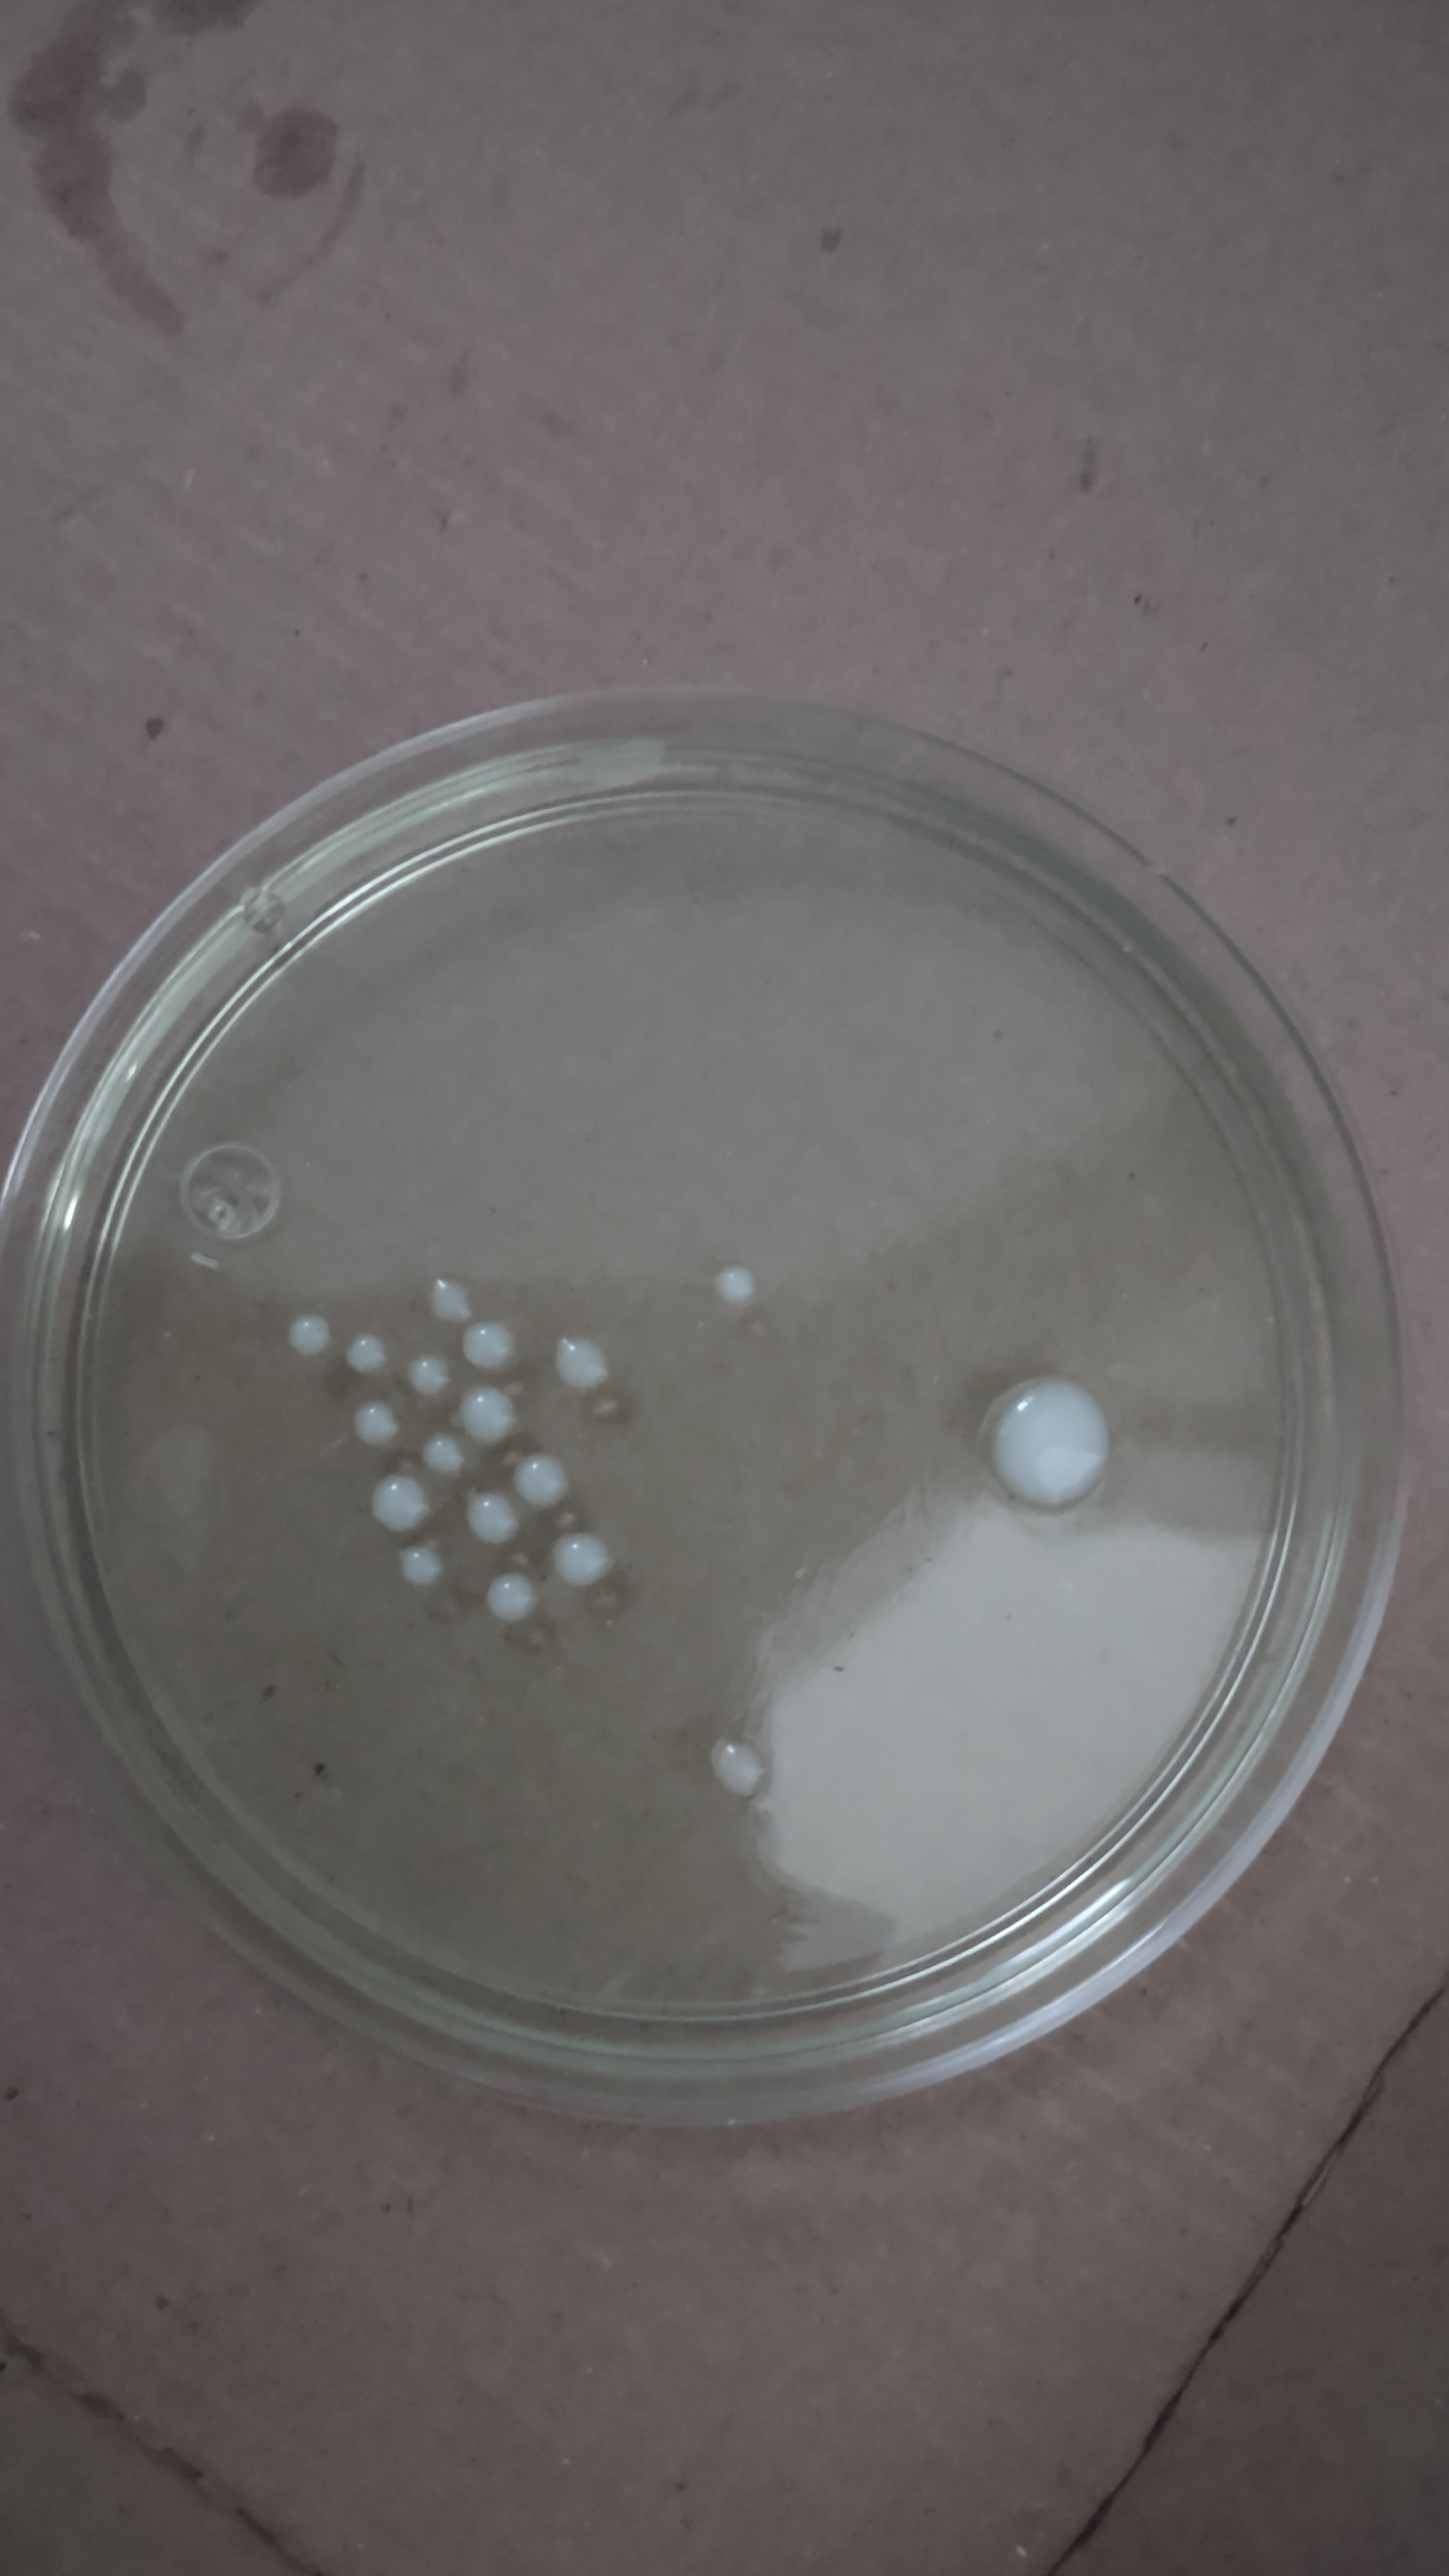Colonia: (978, 1371, 1111, 1513), (550, 1529, 616, 1598), (511, 1447, 573, 1511), (713, 1729, 766, 1796), (458, 1391, 524, 1442), (464, 1488, 522, 1545), (368, 1474, 430, 1527), (554, 1334, 609, 1392), (485, 1569, 538, 1624), (283, 1311, 334, 1359), (352, 1405, 407, 1449), (425, 1276, 474, 1322), (398, 1539, 446, 1585), (709, 1265, 763, 1306), (464, 1325, 513, 1368), (421, 1435, 471, 1474), (403, 1350, 448, 1392), (349, 1334, 384, 1368)
